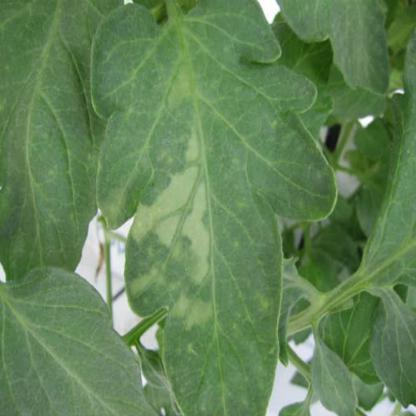Tomato leaf late blight: (89, 14, 336, 414)
